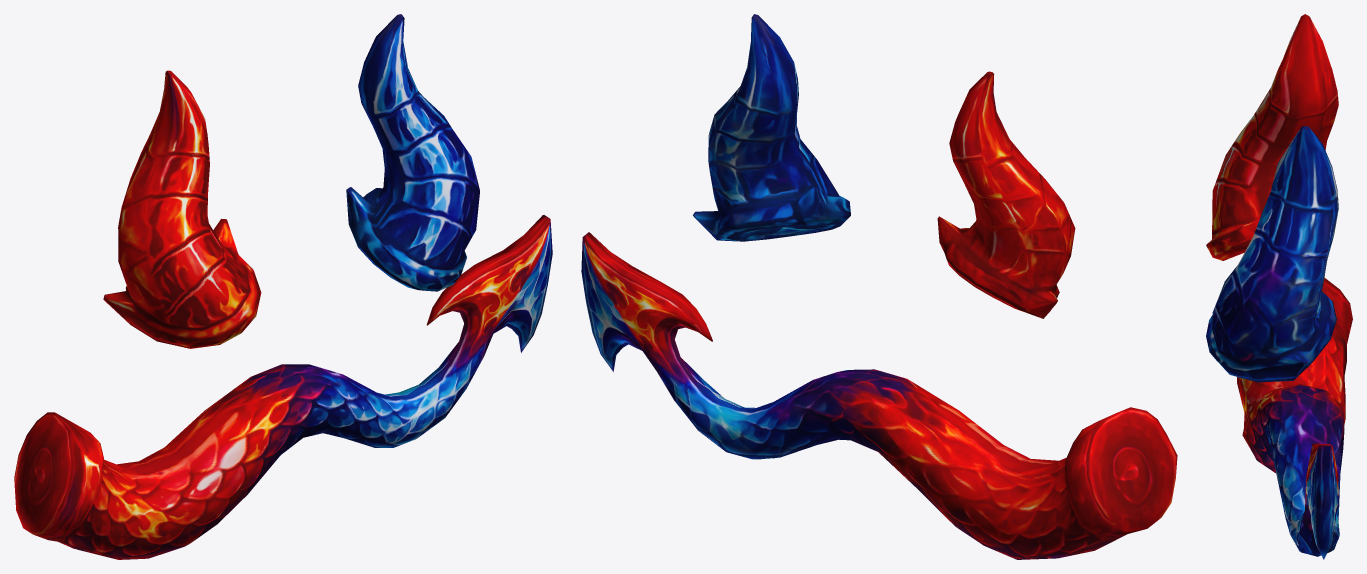
File: navy_red.glb
3 renders of one model, left to right at view 1: azimuth 30°, elevation 25°; view 2: azimuth 150°, elevation 25°; view 3: azimuth 270°, elevation 25°, orthographic. The views are drawn at different scales.
Visible parts, largest first — view 1: geometry_0; view 2: geometry_0; view 3: geometry_0.
Part boxes in pixels (box(x1,y1,x2,y2)): geometry_0: box(14, 14, 552, 559); geometry_0: box(581, 14, 1177, 559); geometry_0: box(1206, 14, 1352, 559).
Bounding box in the file's own units: 0.9575 × 0.7954 × 0.2285.
1 material, 1 textured.
